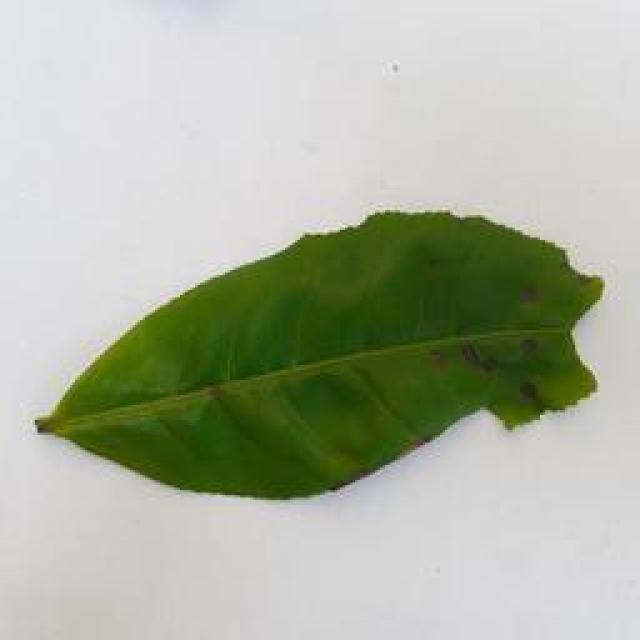Helopeltis: (22, 201, 607, 504)
